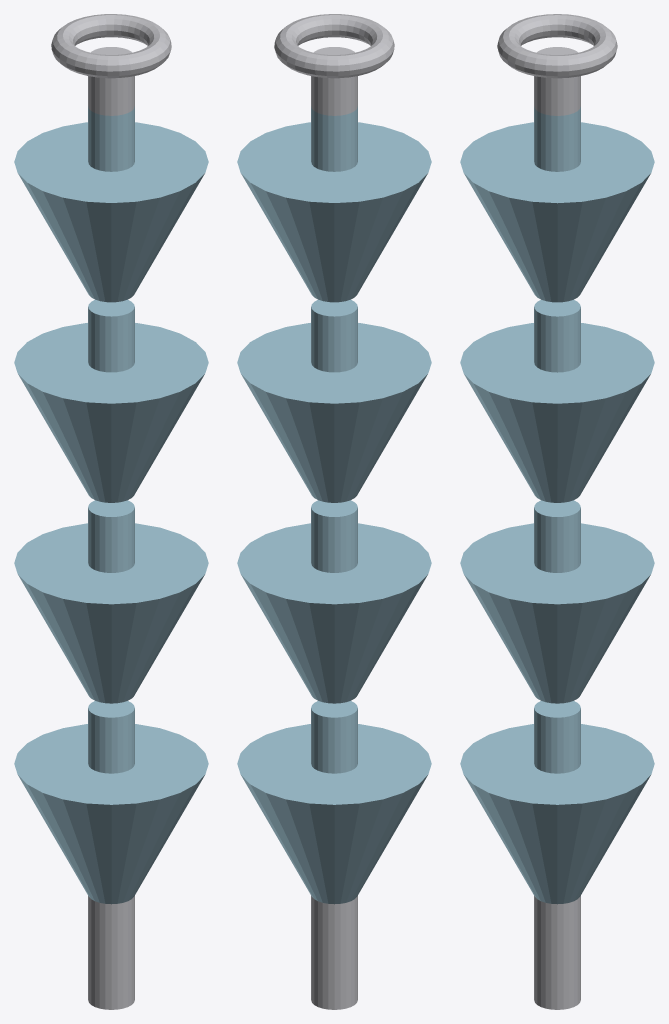
Rendered from Cadena_547mm.fbx.
The picture shows the model from 3 angles, left to right: view 1: azimuth 30°, elevation 25°; view 2: azimuth 150°, elevation 25°; view 3: azimuth 270°, elevation 25°; orthographic projection.
Parts seen in each view (by area): view 1: Cadena_547mm; view 2: Cadena_547mm; view 3: Cadena_547mm.
Boxes of the visible parts, bbox=[...] form: Cadena_547mm: bbox=[14, 14, 208, 1009]; Cadena_547mm: bbox=[237, 14, 431, 1009]; Cadena_547mm: bbox=[460, 14, 654, 1009].
Size of the model in its own units: 10 by 54.7 by 10.
